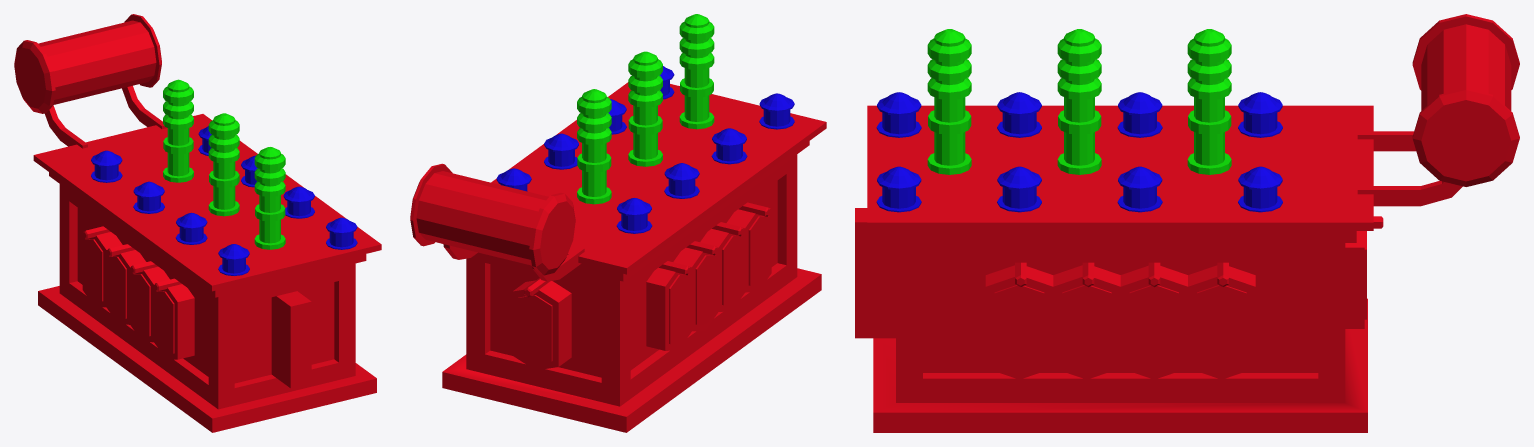
Rendered from Potenciador.fbx.
3 renders of one model, left to right at view 1: azimuth 30°, elevation 25°; view 2: azimuth 150°, elevation 25°; view 3: azimuth 270°, elevation 25°, orthographic. The views are drawn at different scales.
Parts seen in each view (by area): view 1: transformador_de_potencia2:pCube1; view 2: transformador_de_potencia2:pCube1; view 3: transformador_de_potencia2:pCube1.
Part boxes in pixels (x1,y1,x2,y2): transformador_de_potencia2:pCube1: (14, 14, 381, 432); transformador_de_potencia2:pCube1: (410, 14, 826, 432); transformador_de_potencia2:pCube1: (855, 14, 1519, 432).
Bounding box in the file's own units: 632 × 851 × 1479.
